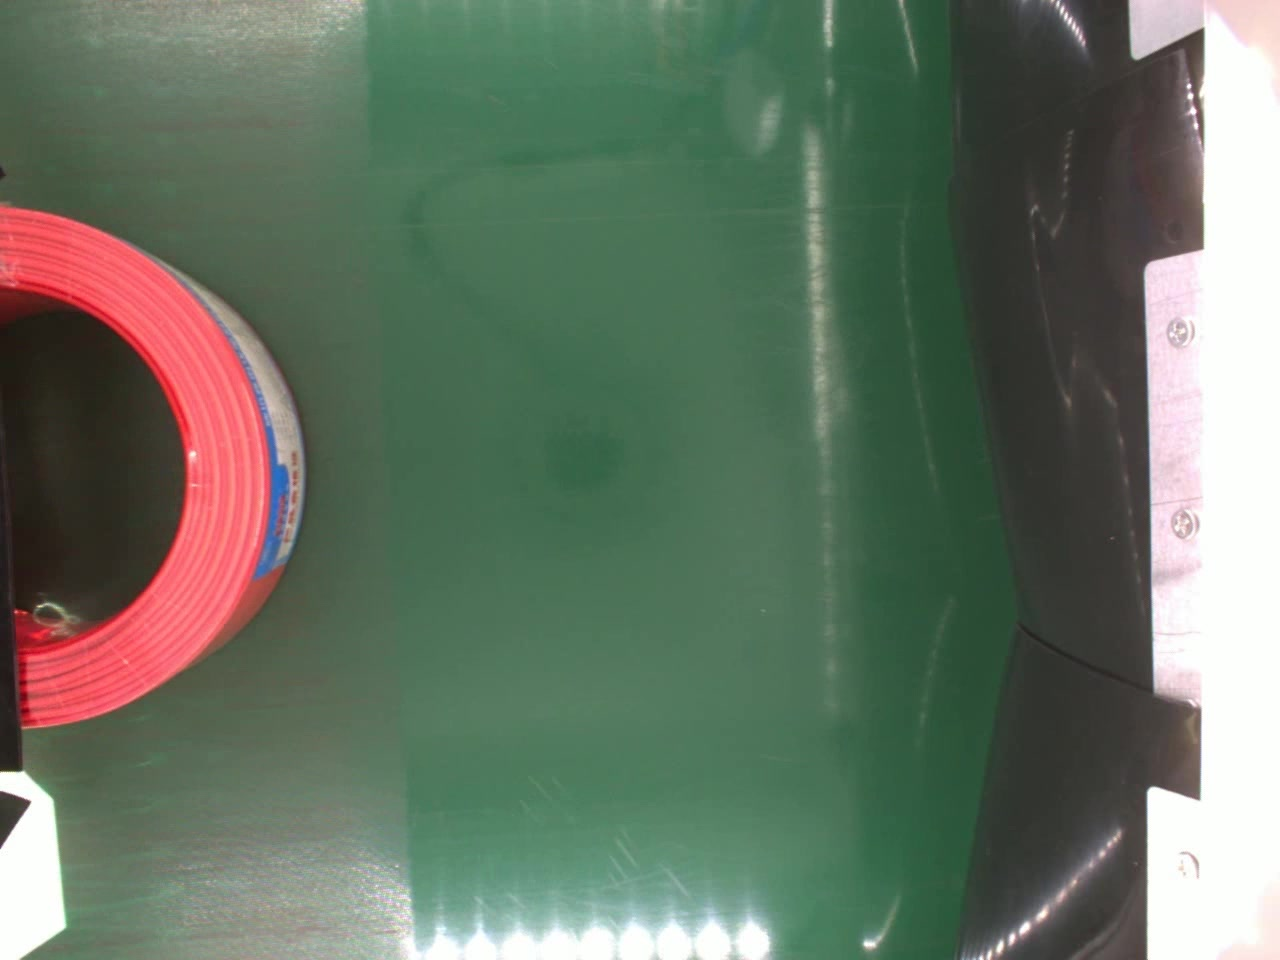red: (0, 204, 307, 727)
